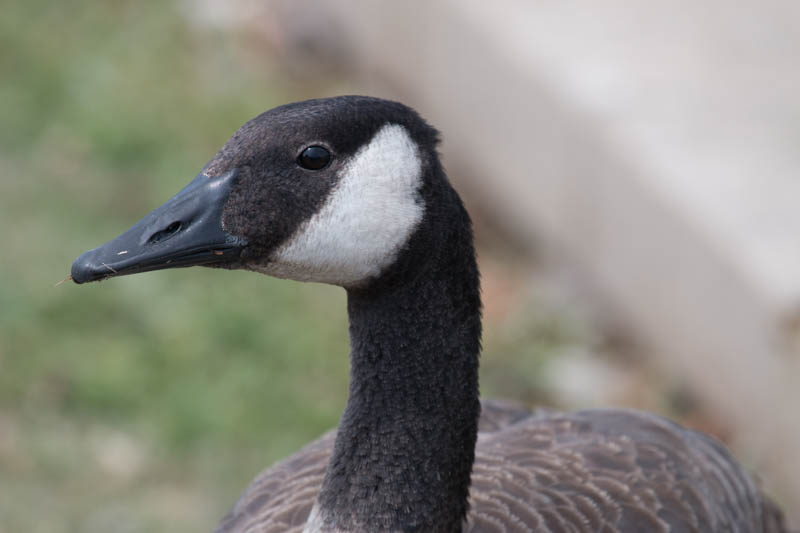goose-head: (70, 96, 470, 290)
